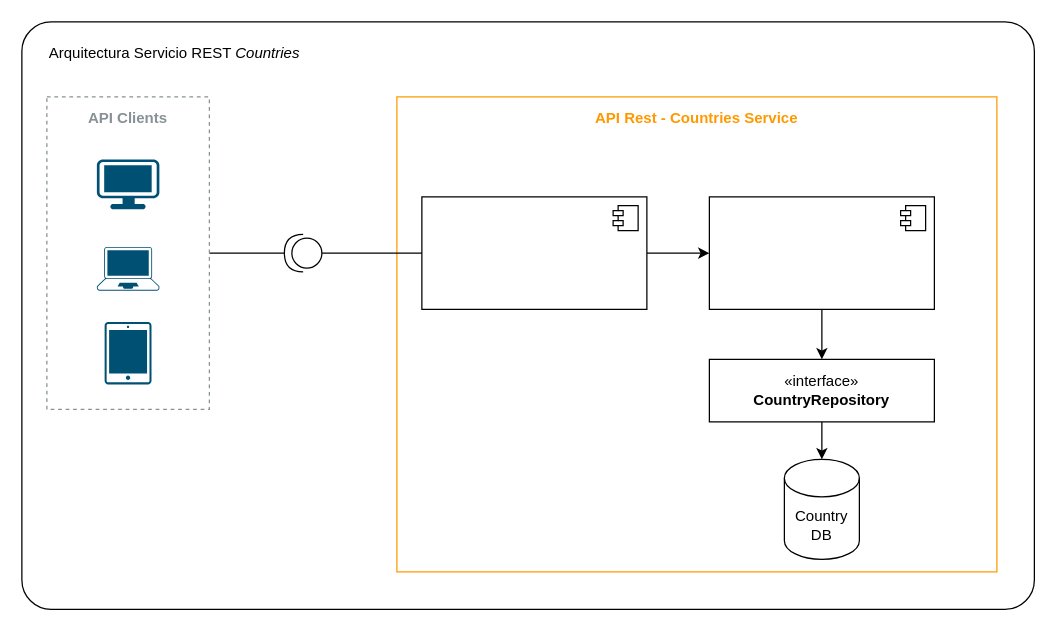
Image size: 1056x631. Some labels were removed from this diagram. Each missing label, with the centre of its shape:
«Controller» CountryController: the point at 534,252
«Model» CountryModel: the point at 821,252
